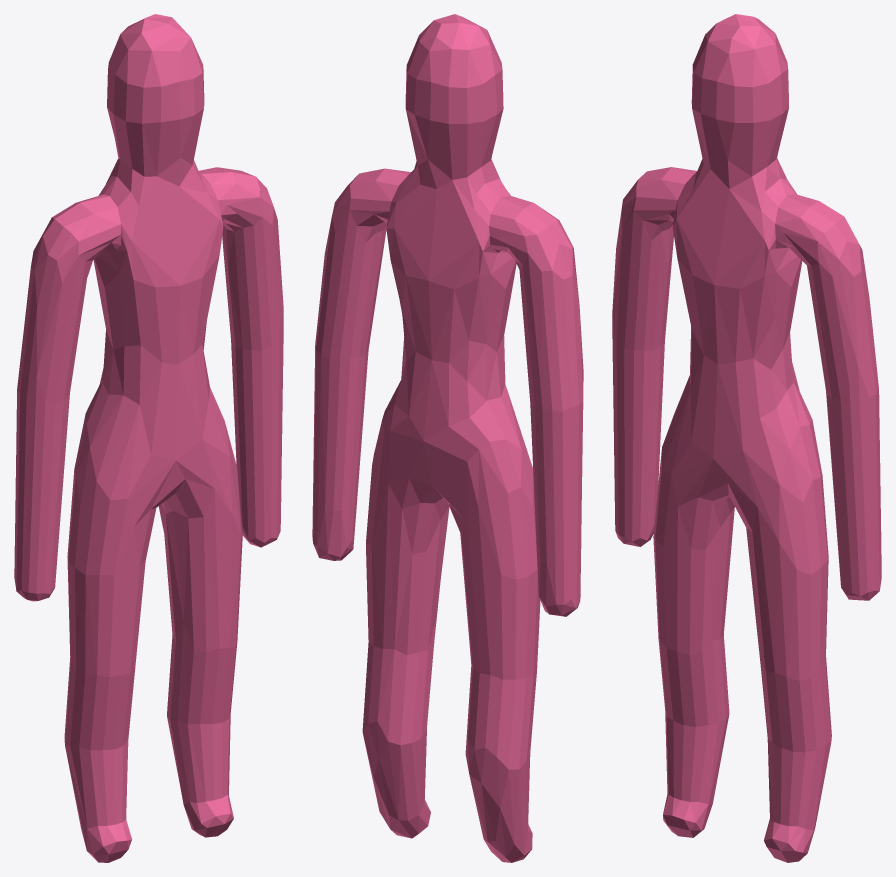
The model's file is personaje_v0.3.glb.
3 views of the same model, side by side, from view 1: azimuth 30°, elevation 25°; view 2: azimuth 150°, elevation 25°; view 3: azimuth 330°, elevation 25° (orthographic).
Parts seen in each view (by area): view 1: PersonajeLowPoly; view 2: PersonajeLowPoly; view 3: PersonajeLowPoly.
Part boxes in pixels (left/top/right/bottom): PersonajeLowPoly: left=14, top=14, right=283, bottom=862; PersonajeLowPoly: left=312, top=14, right=583, bottom=862; PersonajeLowPoly: left=612, top=14, right=881, bottom=862.
Size of the model in its own units: 0.5845 by 1.77 by 0.2037.
